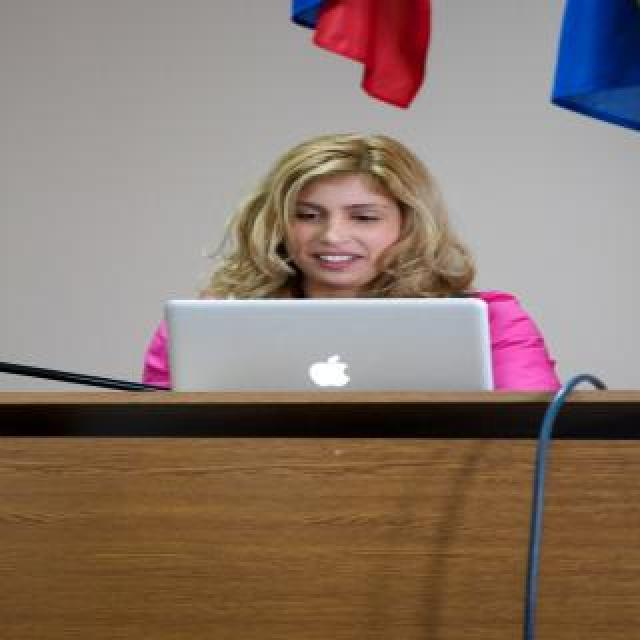laptop_computer: (138, 275, 518, 443)
